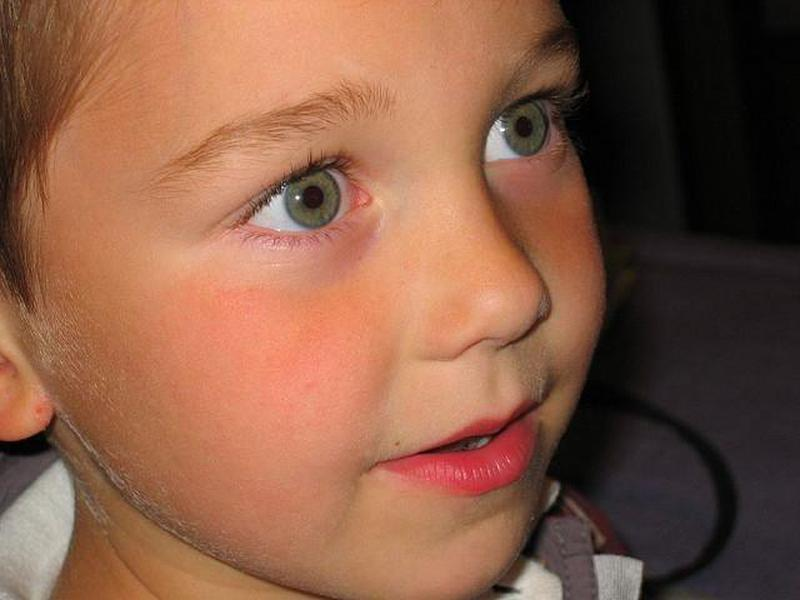person: (5, 1, 632, 597)
